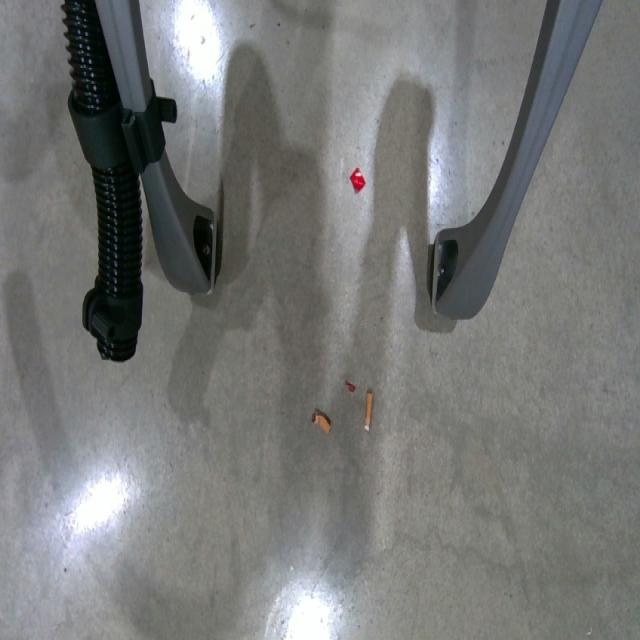Smoking: (308, 402, 334, 439), (360, 382, 376, 437)
